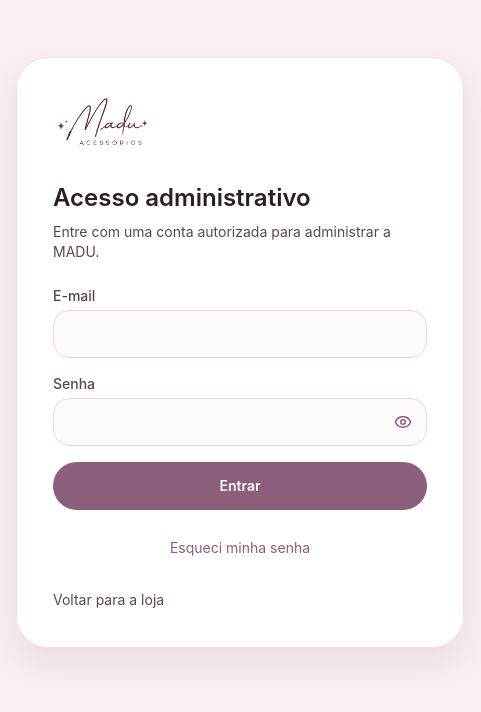
Scenario: admin login page › shows an authentication error and stays on login
In the field labelled "E-mail": (240, 334) [53,310,427,358], type "owner@example.com"
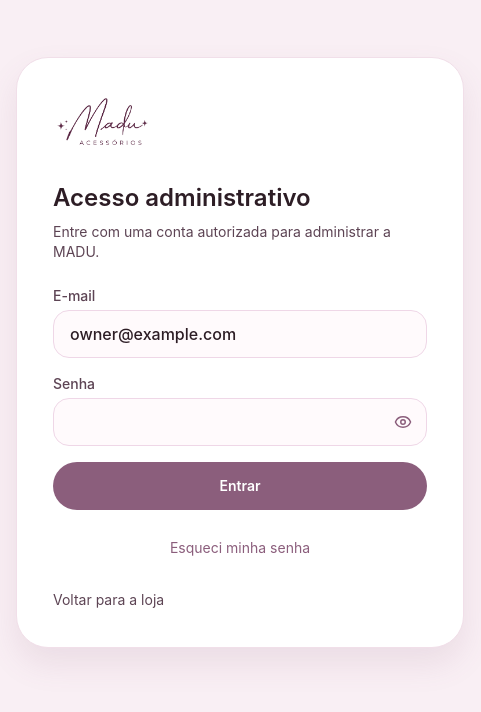
In the password field labelled "Senha": (240, 422) [53,398,427,446], type "wrong"
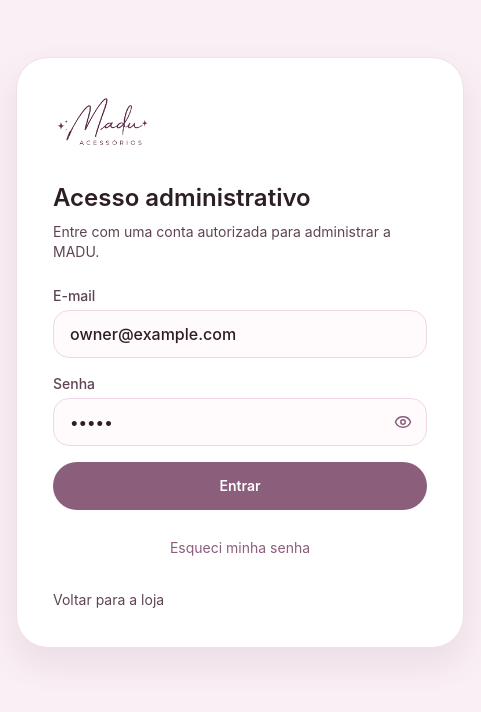
Click the button "Entrar": (240, 486) [53,462,427,510]
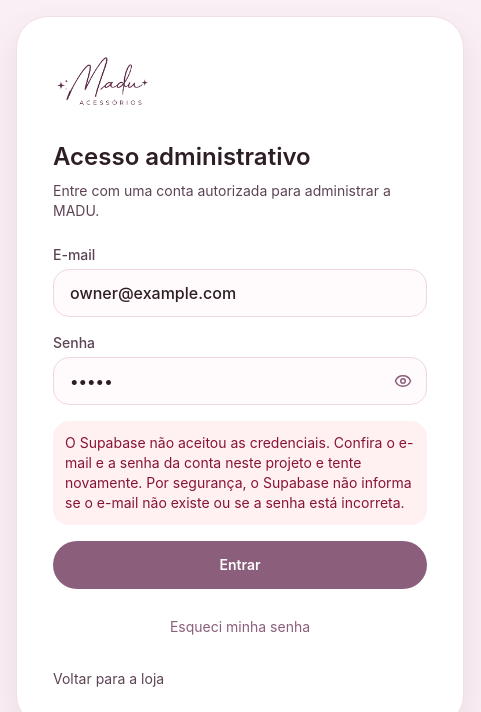
Check: the message shows "O Supabase não aceitou as credenciais. Confira o e-mail e a senha", box [65,434,413,511]
